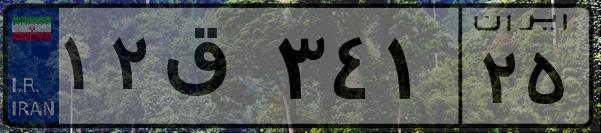1: (385, 28, 445, 110), (57, 26, 110, 100)
2: (475, 38, 525, 113), (110, 28, 158, 98)
3: (270, 28, 330, 110)
4: (330, 28, 385, 110)
5: (525, 38, 570, 115)
ق: (158, 20, 270, 120)
